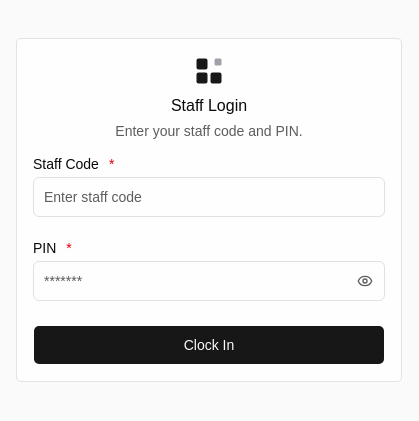
Test case: StaffLoginPage › clears the staff code error when the user starts typing again
The image size is (419, 421).
Click the button "Clock In" at (209, 345), box [33, 325, 385, 365]
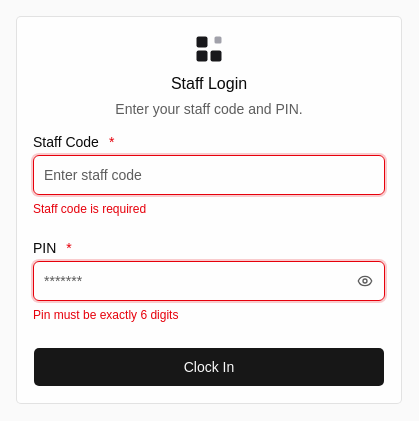
Expected: the text "Staff code is required" is shown, [33, 202, 146, 216]
Type "STAFF01" into the field with placeholder "Enter staff code" at (209, 175), box [34, 155, 384, 195]
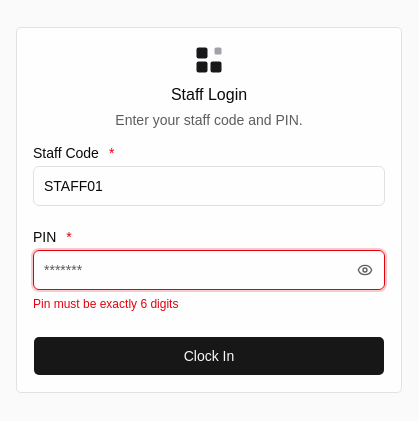
Expected: the text "Staff code is required" is gone
